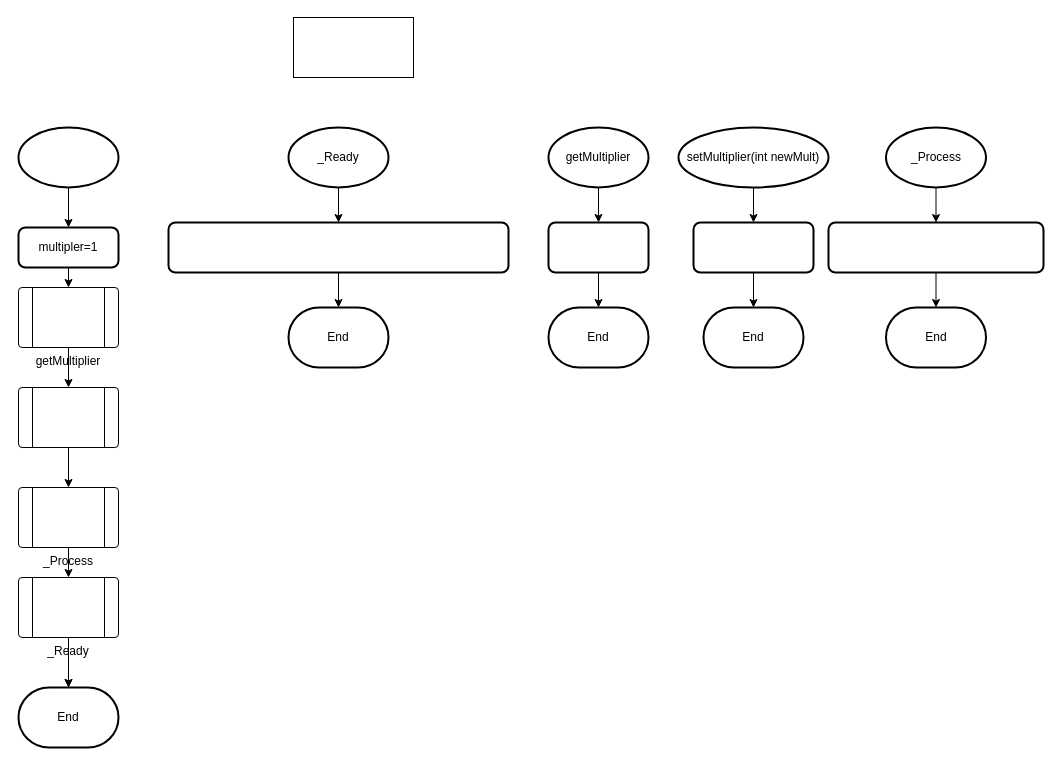
Image size: 1061x766. Some labels were removed from this diagram. Here are the shapes that lost their labels. From the top down, the centre of each, then its label:
point 353,47: Multiplier
point 68,157: Start
point 338,247: _animatedSprite2D=GetNode<AnimatedSprite2D>("Multiplier")
point 598,247: return multiplier
point 753,247: multiplier=newMult
point 935,247: _animatedSprite2D.Frame=multiplier
point 68,417: setMultiplier
